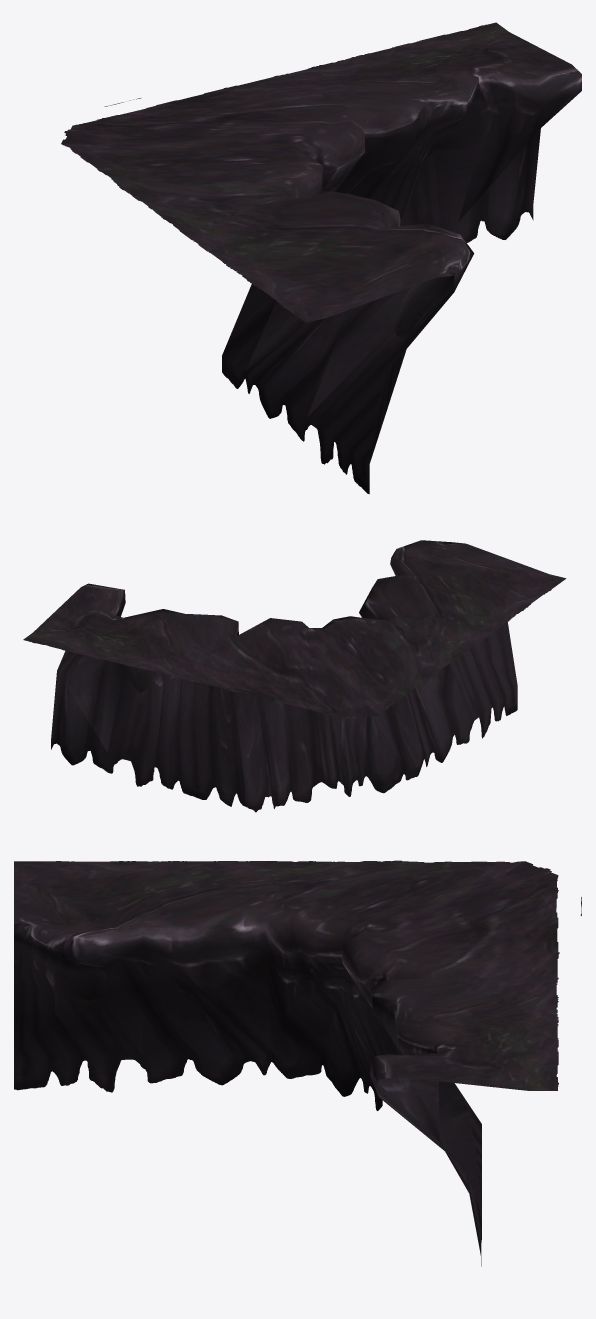
The model's file is cave_trim_concave_01.fbx.
3 views of the same model, one above another, from view 1: azimuth 30°, elevation 25°; view 2: azimuth 150°, elevation 25°; view 3: azimuth 270°, elevation 25° (orthographic). The views are drawn at different scales.
Parts seen in each view (by area): view 1: cave_tileset/trim01_mat; view 2: cave_tileset/trim01_mat; view 3: cave_tileset/trim01_mat.
Boxes of the visible parts, bbox=[...] form: cave_tileset/trim01_mat: bbox=[61, 22, 581, 494]; cave_tileset/trim01_mat: bbox=[23, 540, 566, 812]; cave_tileset/trim01_mat: bbox=[14, 860, 581, 1266].
Size of the model in its own units: 4.4 by 2.01 by 4.4.
